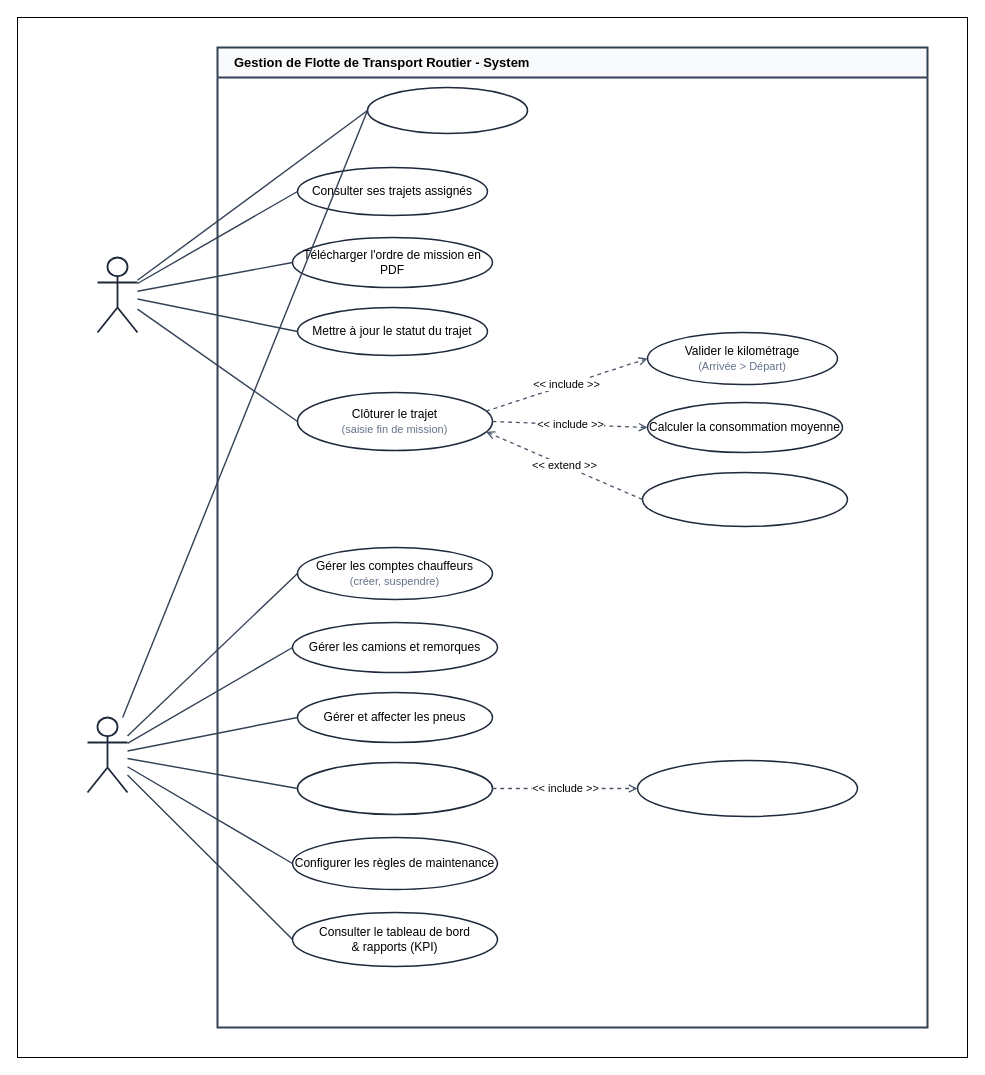
The diagram is 985 pixels wide and 1075 high, and some of its shapes have lost their labels. The centre of each missing label's shape, as x and y in pixels:
"Administrateur" goes at point 107,754.
"Chauffeur" goes at point 117,294.
"Créer et assigner un trajet" goes at point 394,788.
"Déclencher alerte maintenance (si seuil dépassé)" goes at point 744,499.
"S'authentifier" goes at point 447,110.
"Vérifier disponibilité (camion, remorque, chauffeur - 409)" goes at point 747,788.
